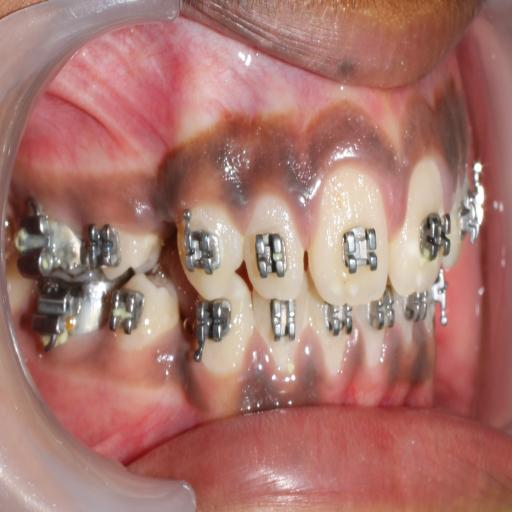correct_brace: (81, 195, 164, 289), (340, 216, 379, 281), (252, 223, 292, 282), (418, 202, 451, 266), (182, 229, 222, 277)
incorrect_brace: (242, 188, 307, 306), (86, 219, 124, 270)
